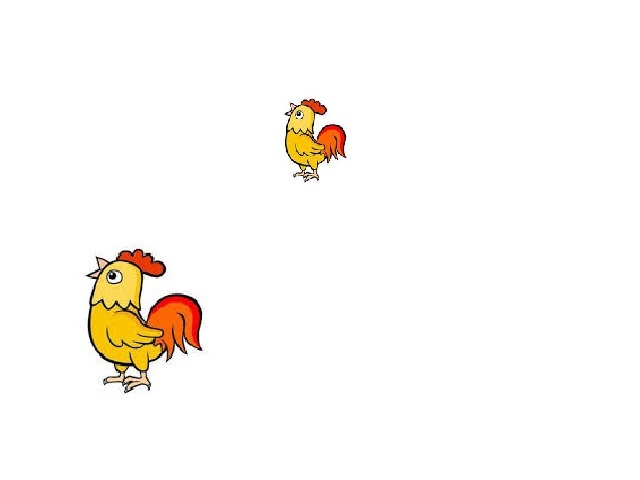crown: (117, 249, 164, 276), (302, 100, 332, 116)
eyes: (106, 266, 119, 283), (295, 110, 305, 123)
feet: (103, 370, 157, 391), (293, 168, 321, 182)
tail: (147, 294, 204, 362), (315, 124, 347, 162)
